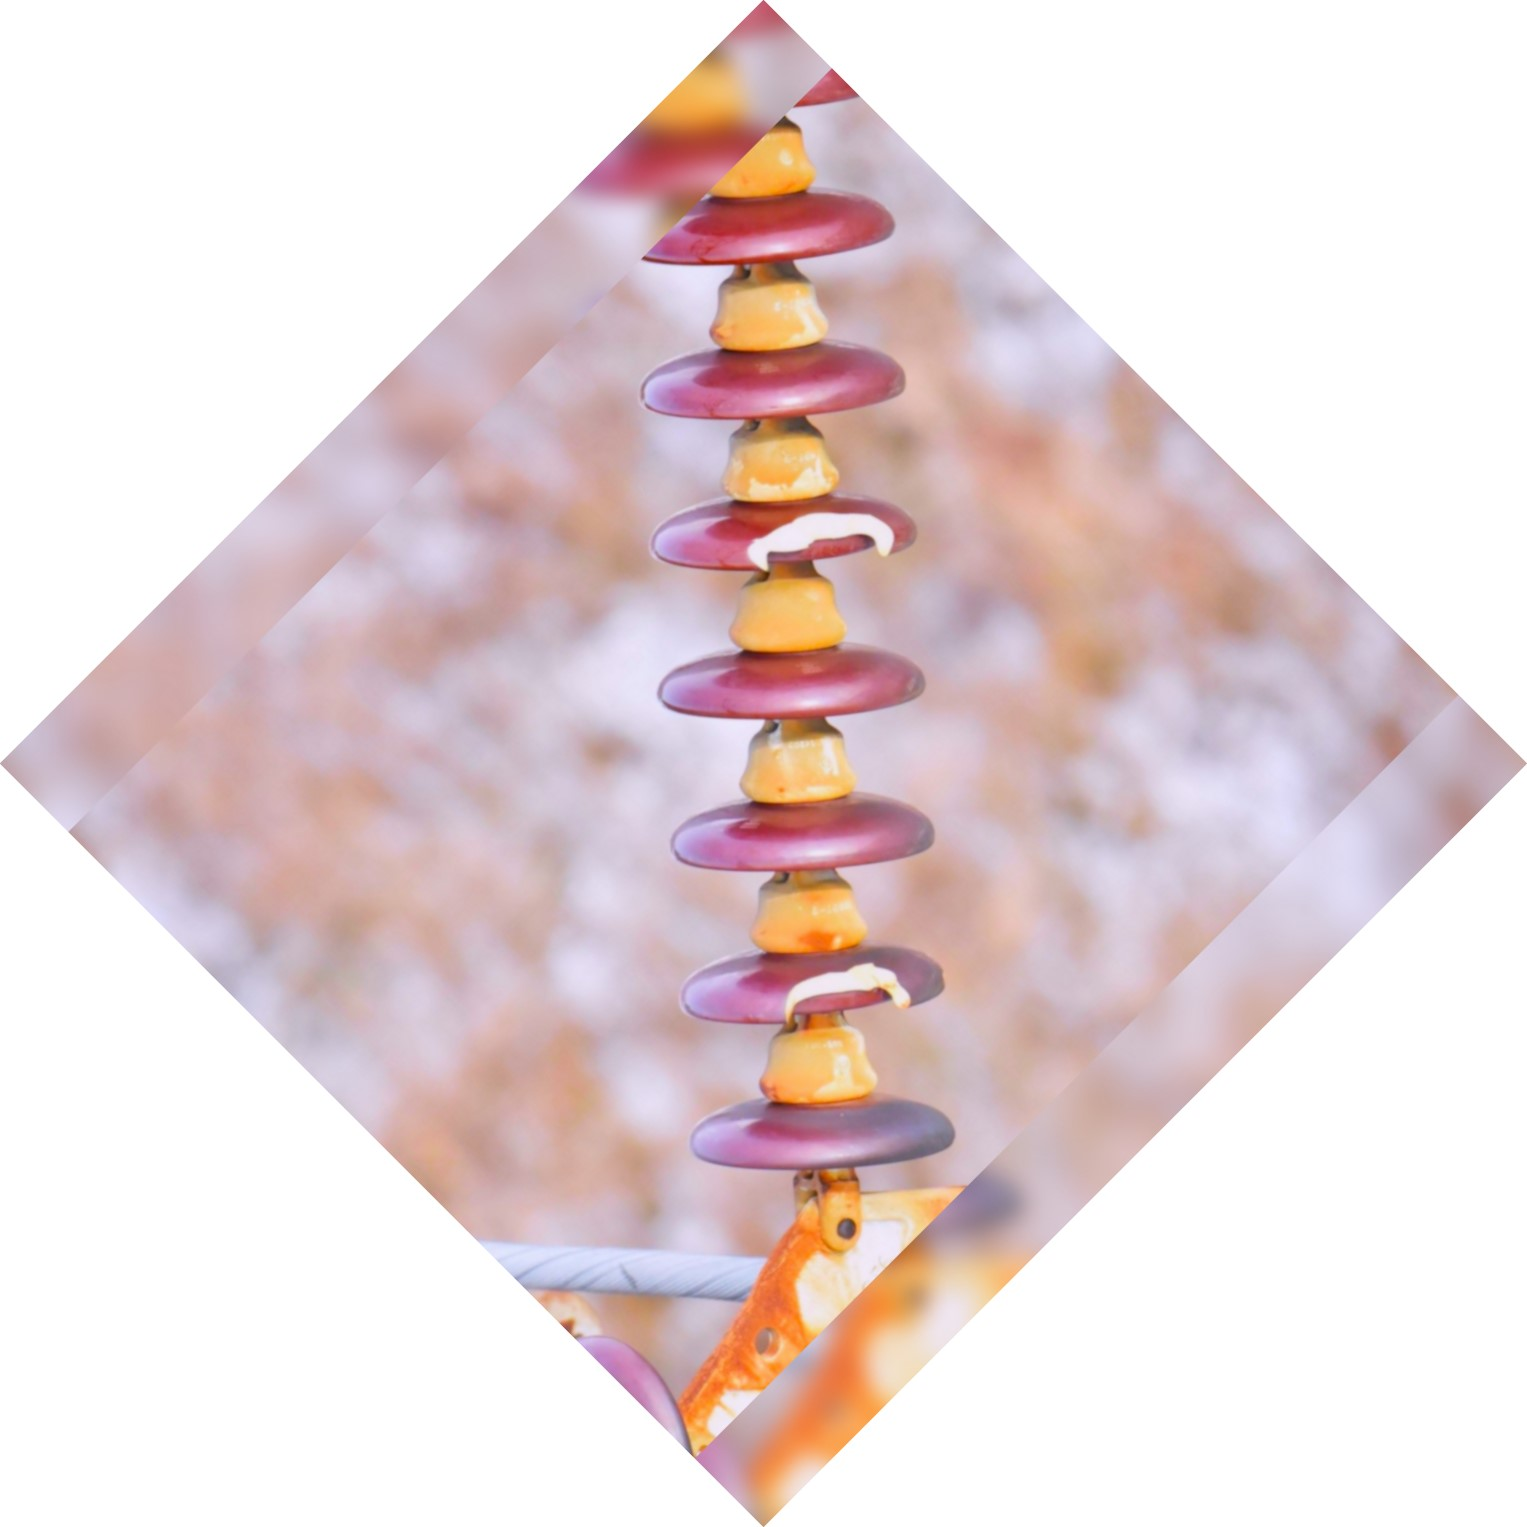insulator breakage: (670, 935, 962, 1040), (639, 495, 920, 580)
